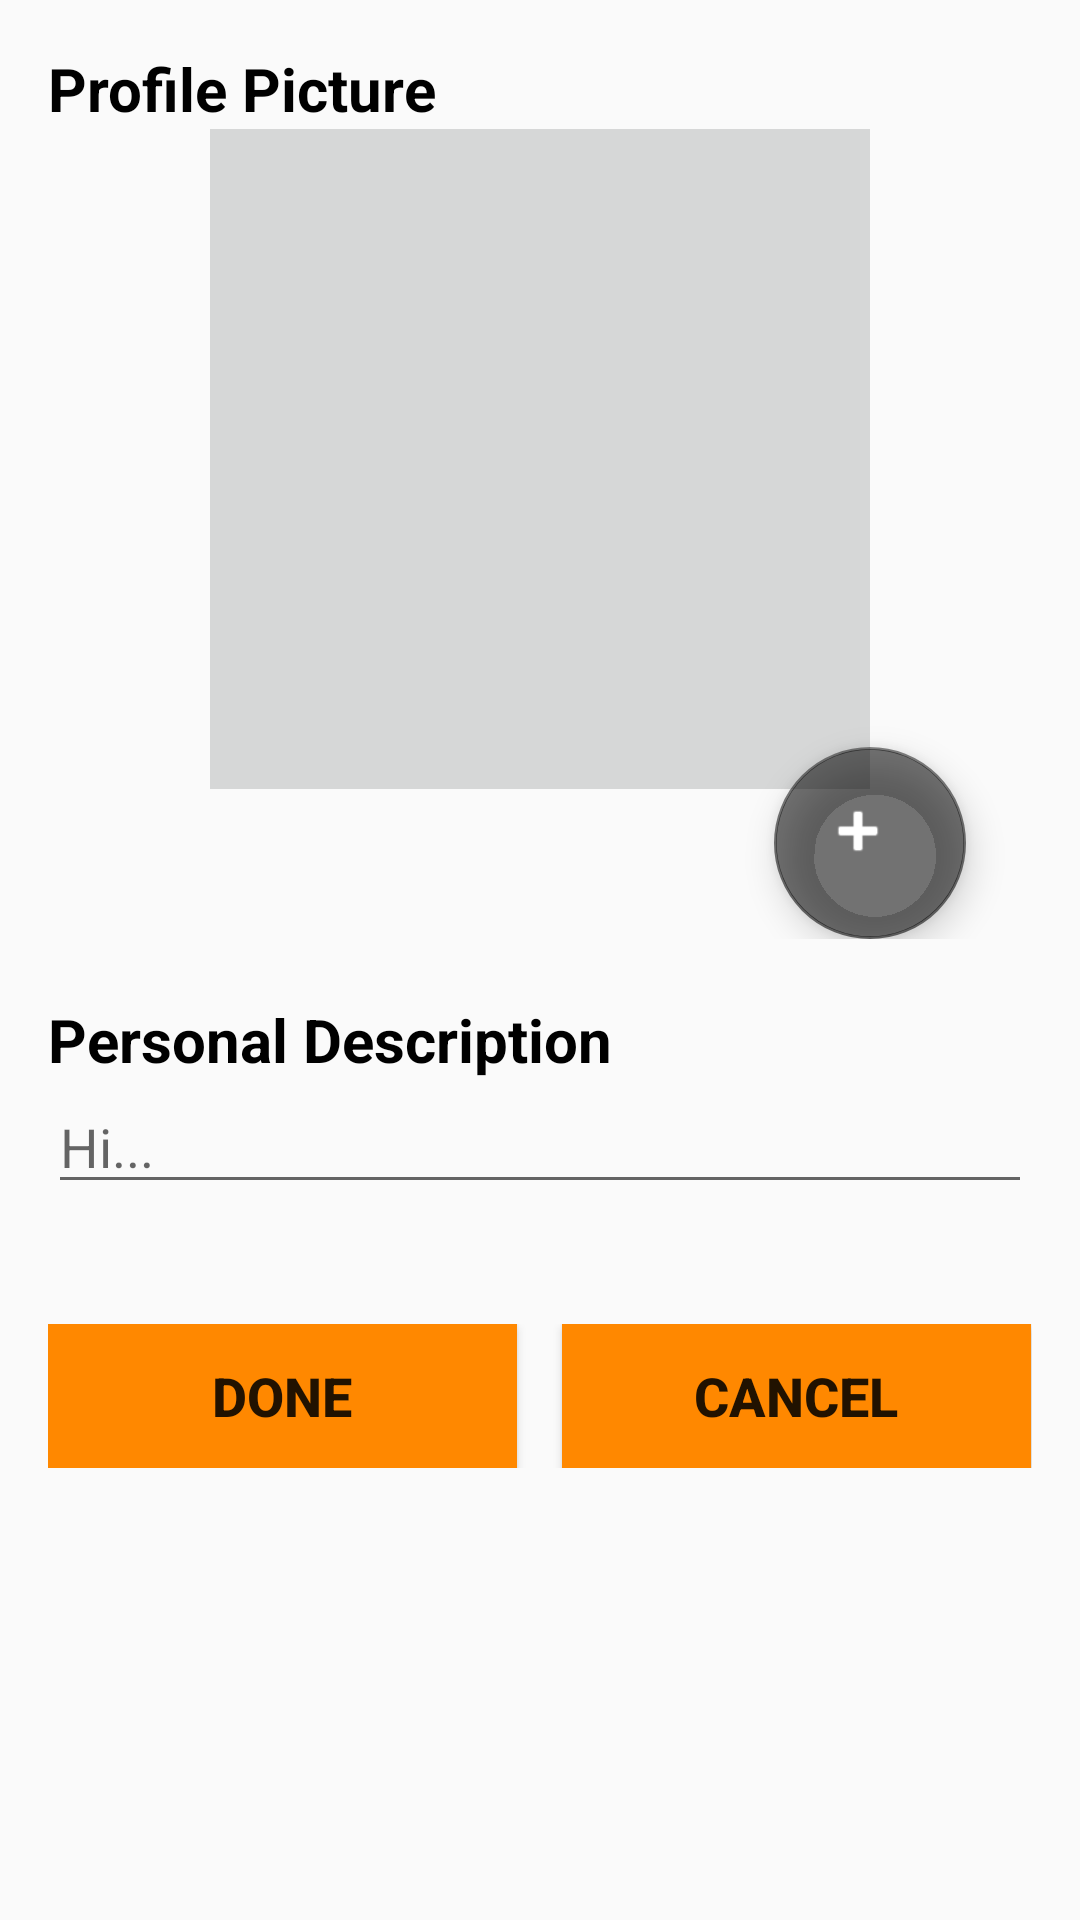

Point at icon controls on the screen. Image size 1080px×1920px, points as (x=x, y=y).
add: (x=870, y=843)
